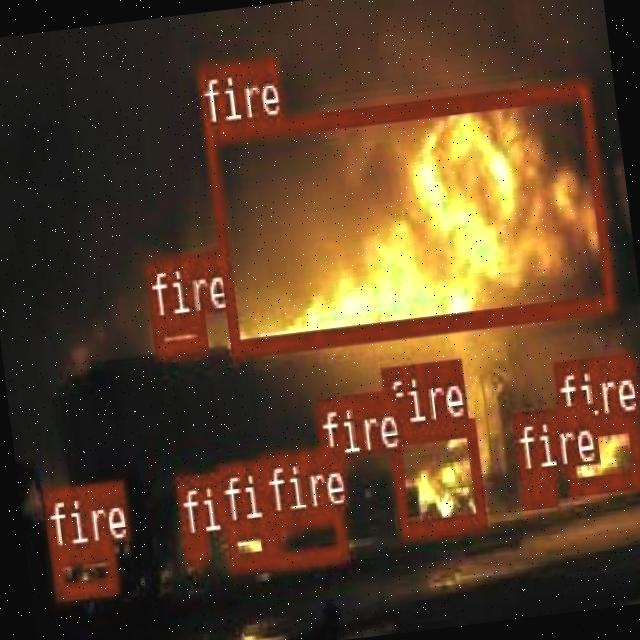fire: (203, 76, 615, 355), (386, 416, 485, 534), (557, 409, 640, 492), (267, 504, 347, 567), (49, 541, 116, 596), (220, 518, 270, 566), (149, 312, 206, 354), (517, 468, 555, 506), (180, 533, 206, 564), (321, 456, 343, 478)
